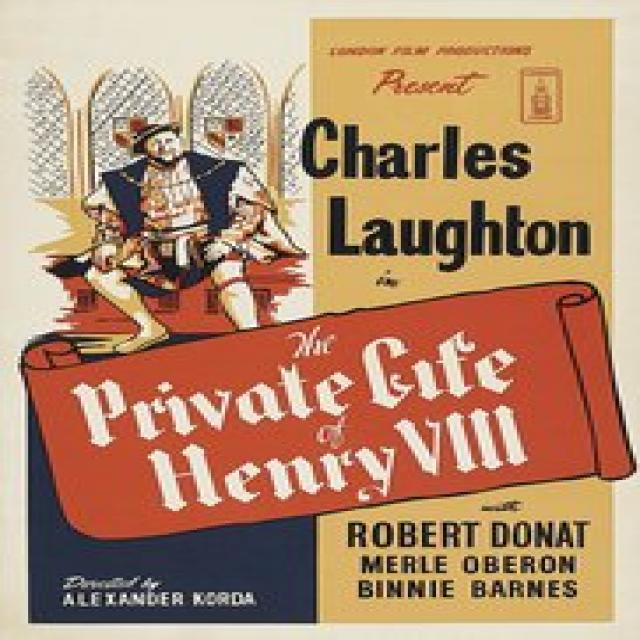movie-judul: (22, 283, 637, 540)
picture: (0, 57, 309, 319)
